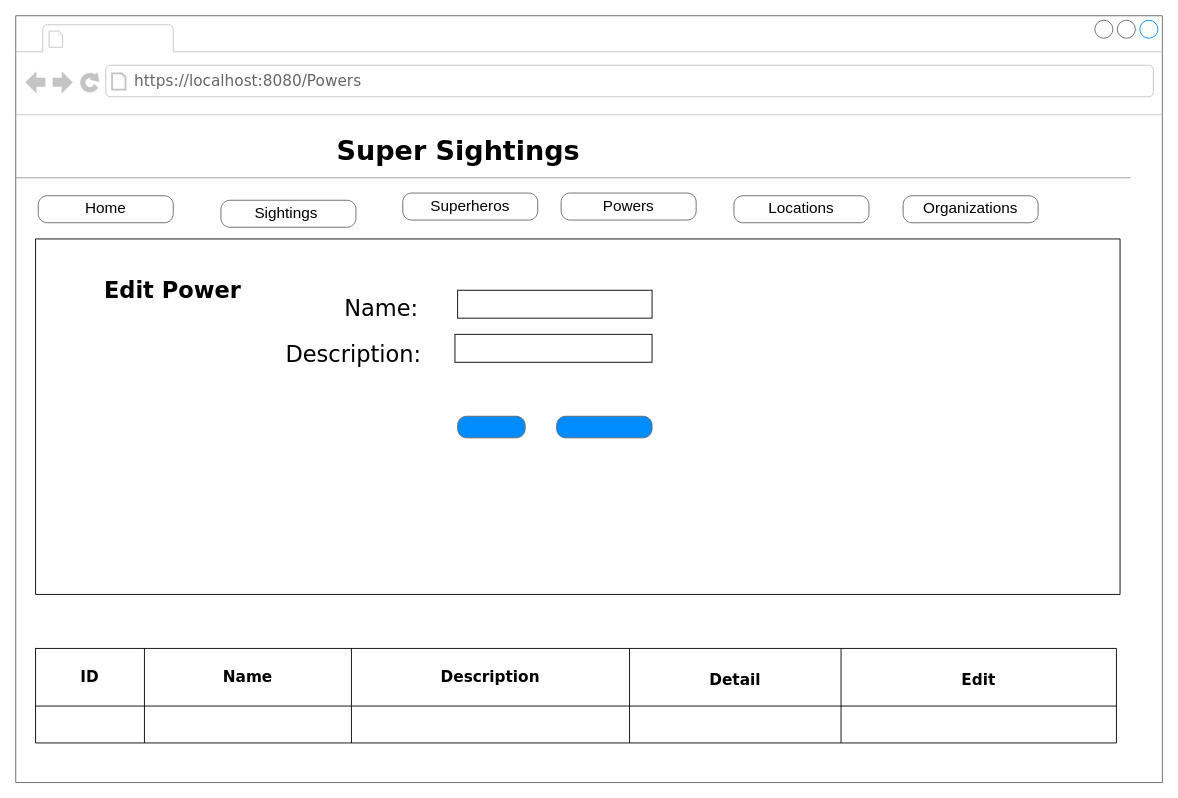
Image size: 1178x798. Some labels were removed from this diagram. Here are the shapes that lost their labels. From the top down, the box of each, then its label:
(69, 26, 169, 50): Page 12
(457, 415, 525, 438): Ok
(556, 415, 652, 438): Cancel
